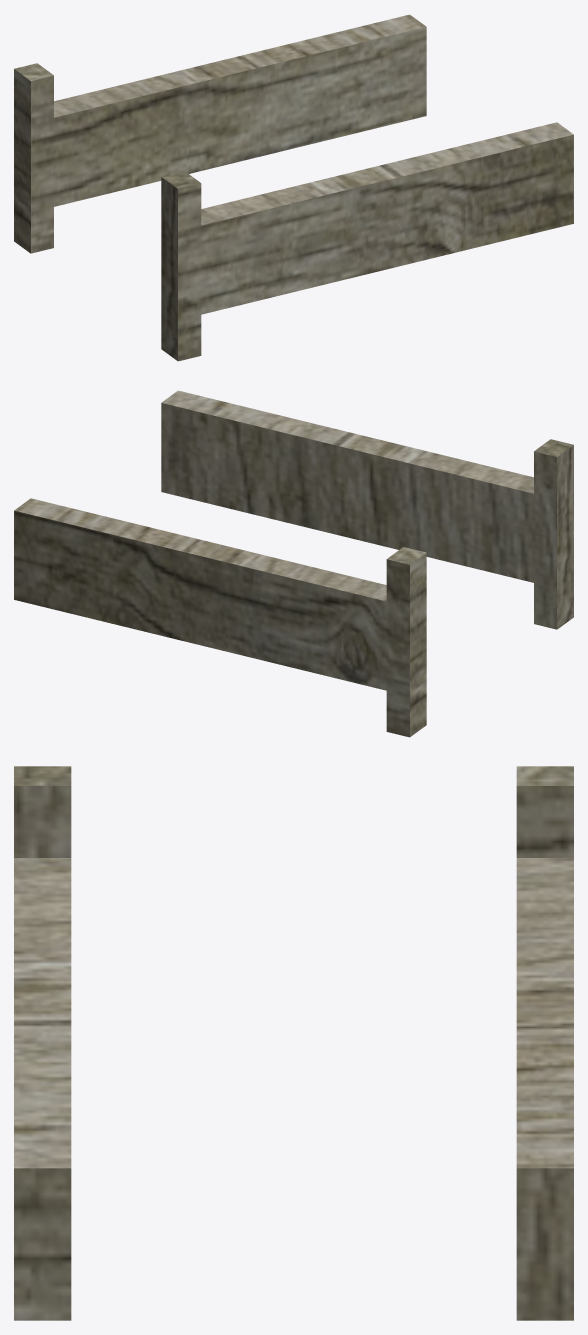
Rendered from Kanonenhalter.fbx.
3 renders of one model, top to bottom at view 1: azimuth 30°, elevation 25°; view 2: azimuth 150°, elevation 25°; view 3: azimuth 270°, elevation 25°, orthographic. The views are drawn at different scales.
Visible parts, largest first — view 1: Halterung; view 2: Halterung; view 3: Halterung.
Boxes of the visible parts, x1,y1,x2,y2 form: Halterung: [14, 14, 573, 361]; Halterung: [14, 390, 573, 737]; Halterung: [14, 766, 573, 1320].
Size of the model in its own units: 3.44 by 1.43 by 2.47.
Materials: 1 (1 with a texture image).
